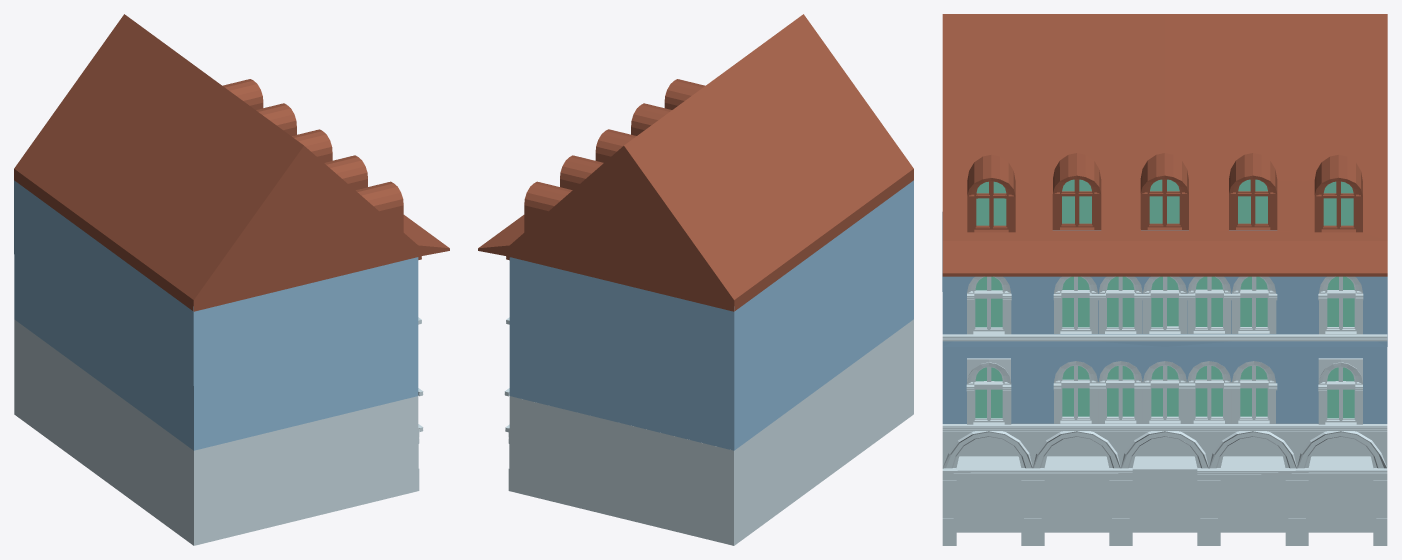
File: Building_5.fbx
The picture shows the model from 3 angles, left to right: view 1: azimuth 30°, elevation 25°; view 2: azimuth 150°, elevation 25°; view 3: azimuth 270°, elevation 25°; orthographic projection. The views are drawn at different scales.
Parts seen in each view (by area): view 1: mer.006; view 2: mer.006; view 3: mer.006.
Part boxes in pixels (<box>): mer.006: <box>14,14,449,545</box>; mer.006: <box>478,14,913,545</box>; mer.006: <box>942,14,1387,545</box>.
Bounding box in the file's own units: 1343 × 1871 × 1632.
